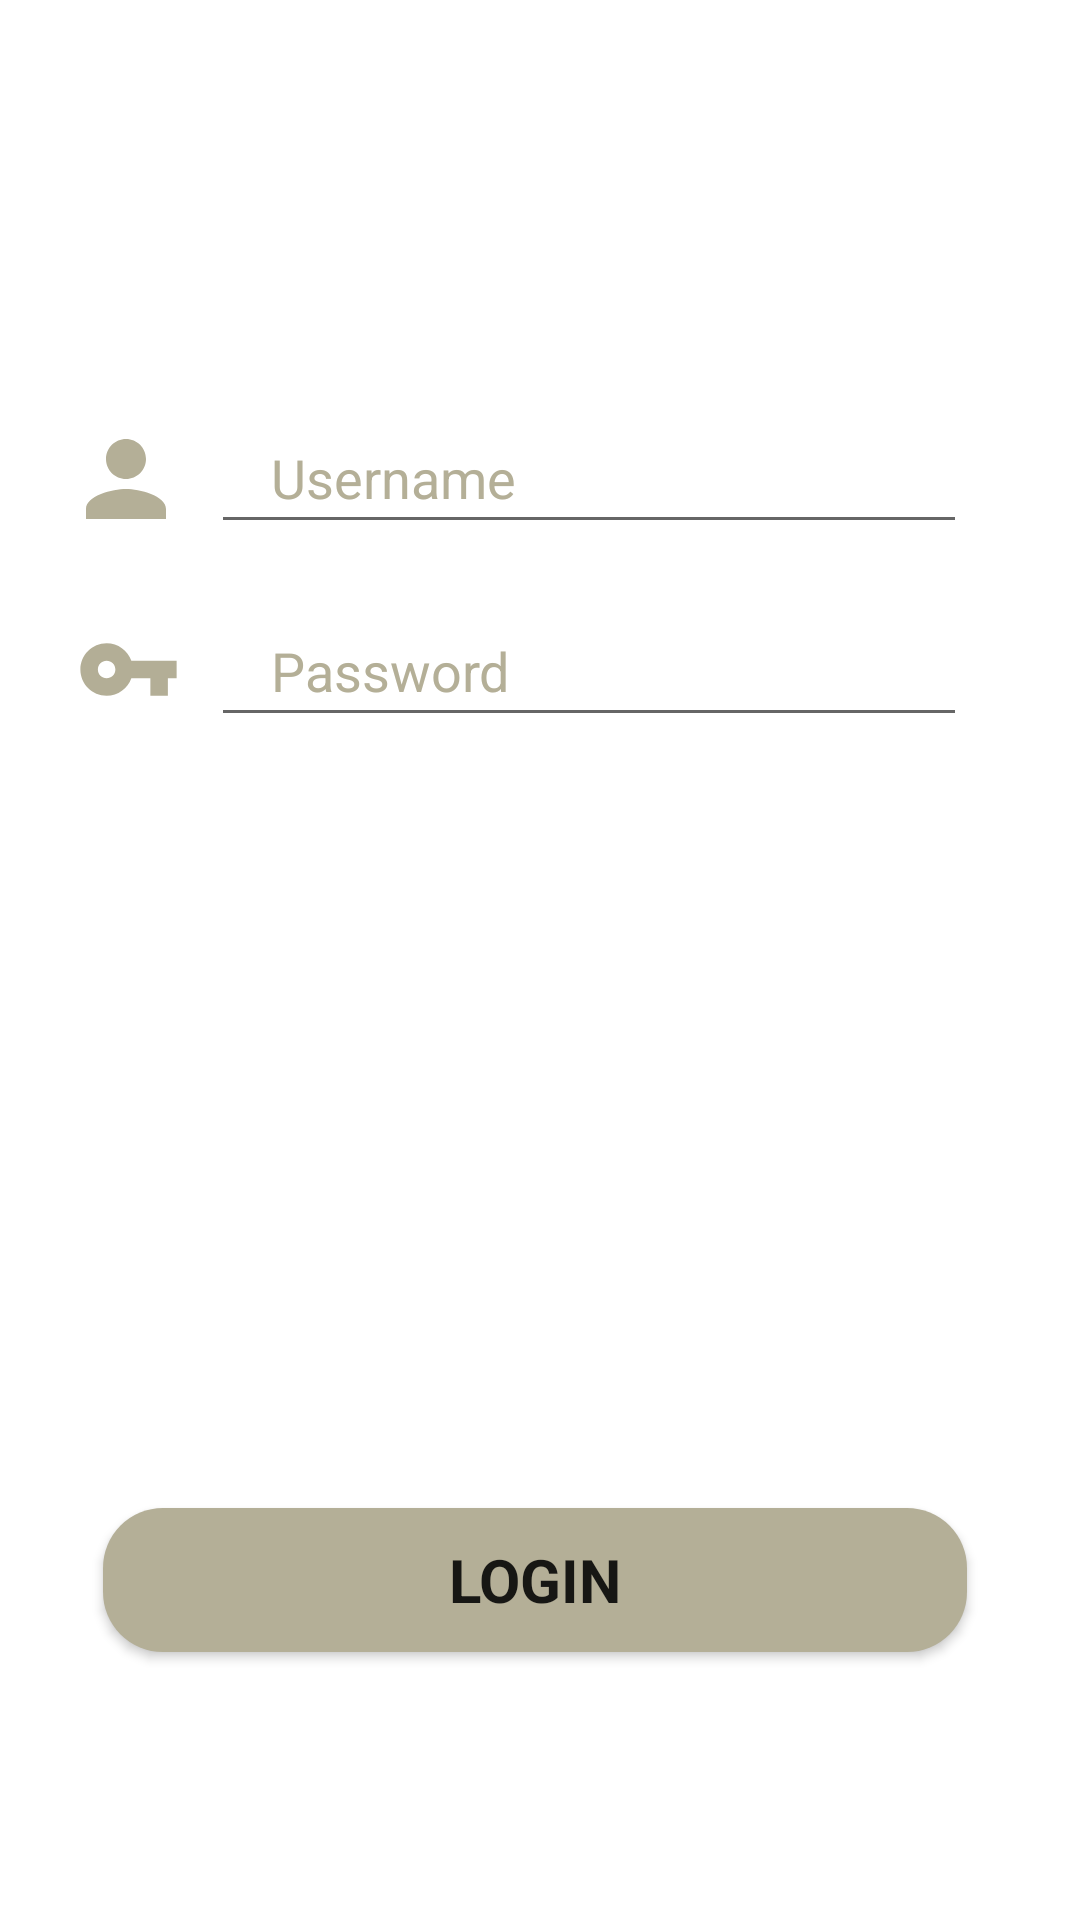

Screen size 1080*1920. Icon name, then its box in pixels as [left=x1, top=y1, right=x2, bottom=y2]:
person: [left=86, top=439, right=166, bottom=519]
vpn key: [left=80, top=643, right=177, bottom=696]
